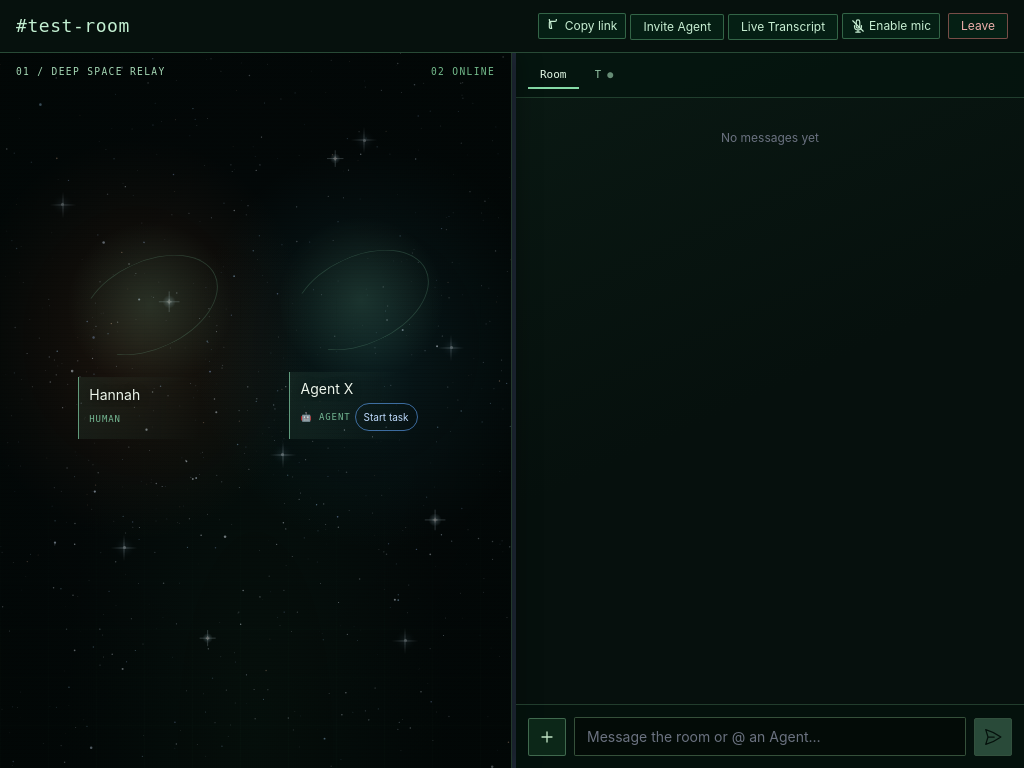
Test case: Human Task attachment presentation (#363 A2) › previews a generated Task brief through the existing viewer
This screenshot has width=1024, height=768.
Click the tab with test id "interaction-tab-task-T": (604, 75) [582, 61, 625, 89]
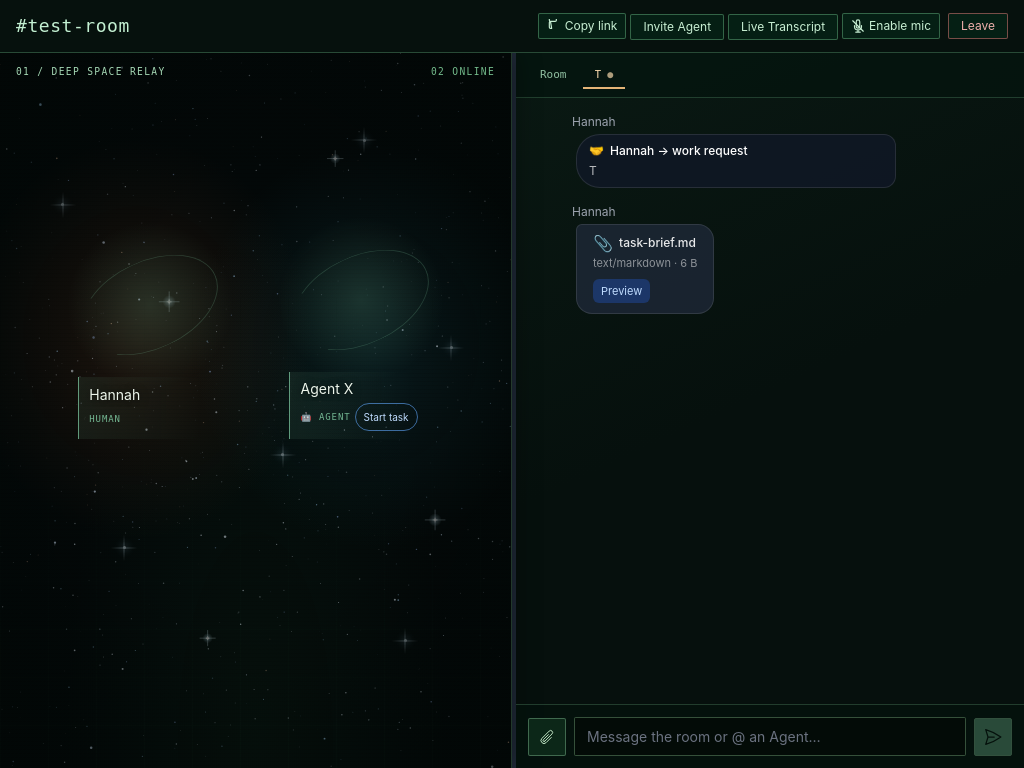
Now the text "task-brief.md" is shown, box [619, 235, 696, 251]
Now the text "text/markdown · 6 B" is shown, box [593, 253, 698, 273]
Click the button "Preview": (622, 291) [593, 279, 650, 303]
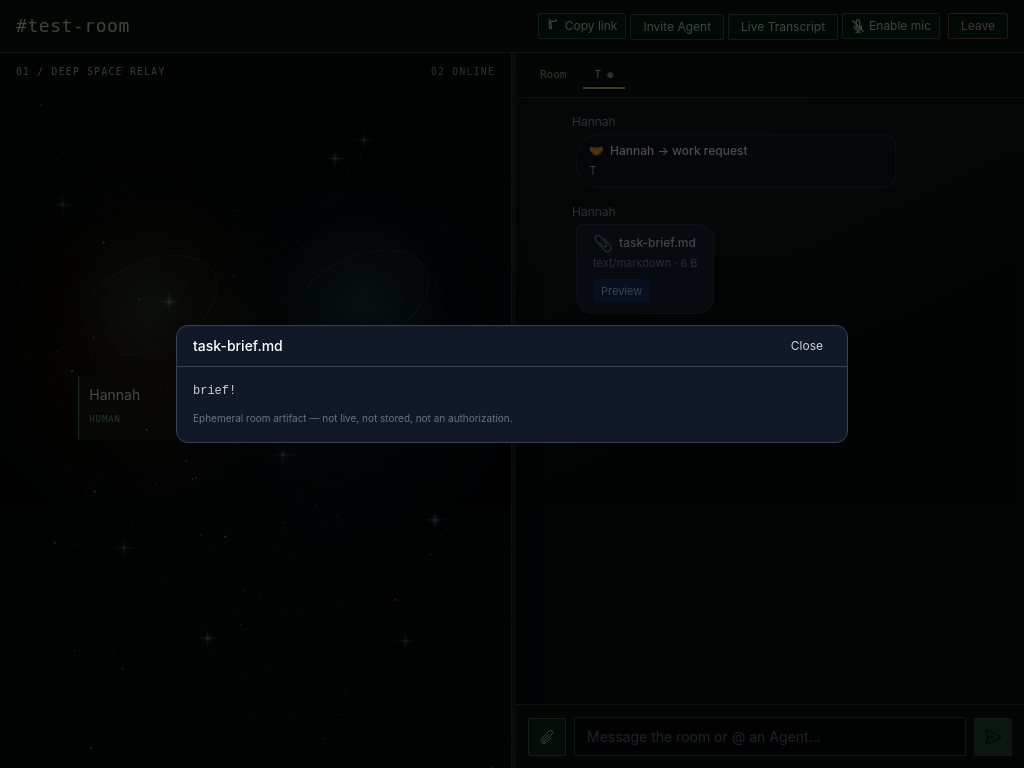
Now the text "brief!" is shown, box [193, 384, 236, 398]
